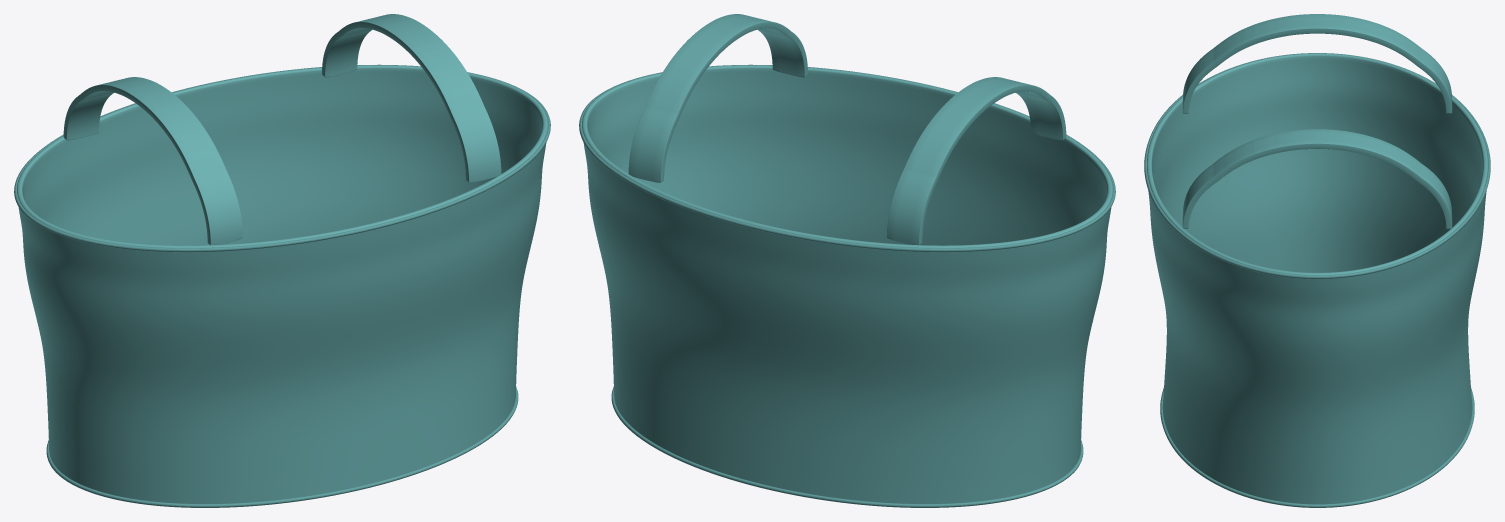
File: Masculine-tank-top.glb
3 views of the same model, side by side, from view 1: azimuth 30°, elevation 25°; view 2: azimuth 150°, elevation 25°; view 3: azimuth 270°, elevation 25° (orthographic). The views are drawn at different scales.
Visible parts, largest first — view 1: Clothing / tank body, Clothing / tank shoulder strap 1, Clothing / tank shoulder strap -1, tank body stitched edge.001 export, tank body stitched edge export; view 2: Clothing / tank body, Clothing / tank shoulder strap 1, Clothing / tank shoulder strap -1, tank body stitched edge.001 export, tank body stitched edge export; view 3: Clothing / tank body, Clothing / tank shoulder strap -1, Clothing / tank shoulder strap 1, tank body stitched edge.001 export, tank body stitched edge export.
Part boxes in pixels (x1=…): Clothing / tank body: x1=17, y1=65, x2=547, y2=503; Clothing / tank shoulder strap 1: x1=322, y1=14, x2=501, y2=182; Clothing / tank shoulder strap -1: x1=63, y1=77, x2=242, y2=244; tank body stitched edge.001 export: x1=14, y1=64, x2=550, y2=252; tank body stitched edge export: x1=46, y1=386, x2=518, y2=507; Clothing / tank body: x1=582, y1=65, x2=1112, y2=503; Clothing / tank shoulder strap 1: x1=628, y1=14, x2=807, y2=182; Clothing / tank shoulder strap -1: x1=887, y1=77, x2=1066, y2=244; tank body stitched edge.001 export: x1=579, y1=64, x2=1115, y2=252; tank body stitched edge export: x1=611, y1=386, x2=1083, y2=507; Clothing / tank body: x1=1147, y1=53, x2=1487, y2=504; Clothing / tank shoulder strap -1: x1=1182, y1=14, x2=1452, y2=113; Clothing / tank shoulder strap 1: x1=1182, y1=129, x2=1452, y2=228; tank body stitched edge.001 export: x1=1144, y1=53, x2=1490, y2=278; tank body stitched edge export: x1=1160, y1=388, x2=1474, y2=507.
Size of the model in its own units: 0.8048 by 0.557 by 0.5262.
